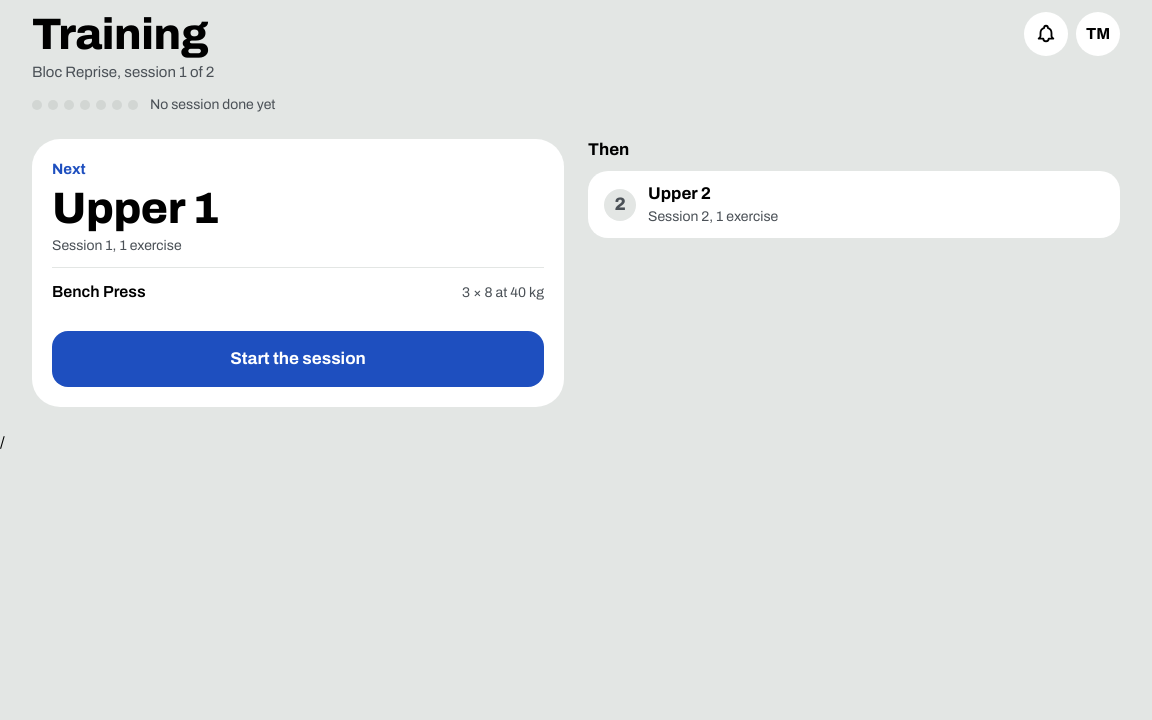
Test: StudentTraining › the next session › is started from its one button, which opens the session
Click the link "Start the session" at (298, 359), box [52,331,544,387]
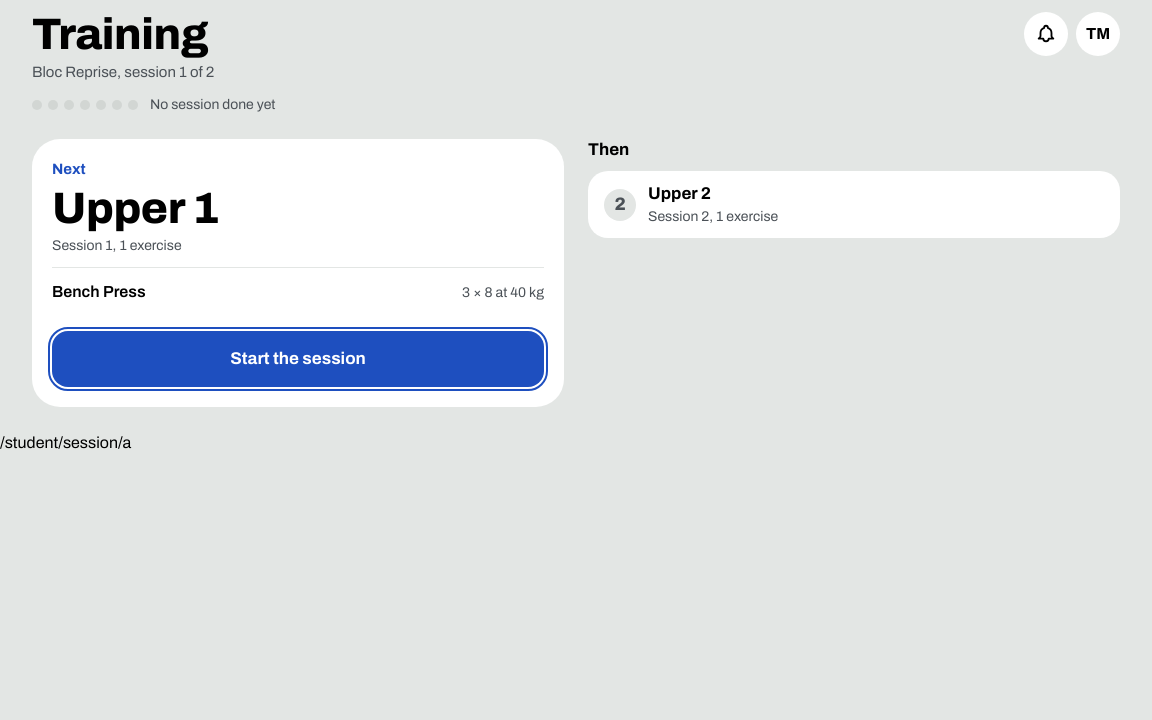
Result: the text with test id "location" reads "/student/session/a" at [0,434,131,451]
